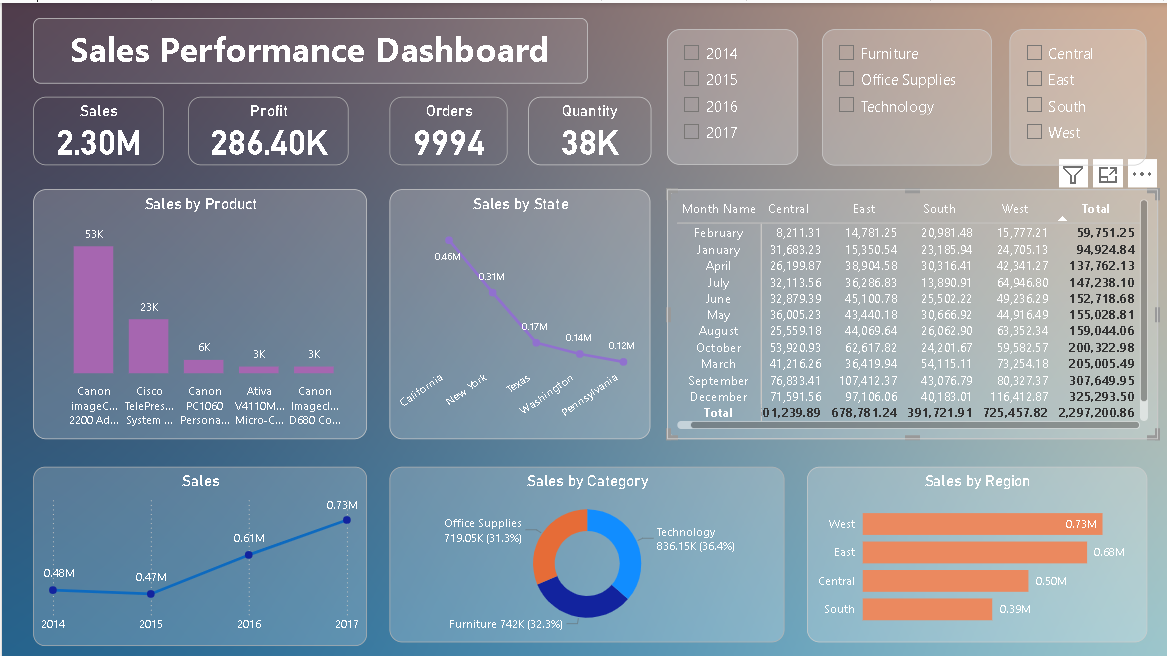

The dashboard page shown, as its layout file describes it:
{"tool":"powerbi","page":{"name":"Page 1","canvas":[1280,720],"ordinal":0},"visuals":[{"type":"lineChart","title":"Sales","fields":{"Category":["Superstore.Order Date.Variation.Date Hierarchy.Year","Superstore.Order Date.Variation.Date Hierarchy.Quarter","Superstore.Order Date.Variation.Date Hierarchy.Month","Superstore.Order Date.Variation.Date Hierarchy.Day"],"Y":["Sum(Superstore.Sales)"]},"box":[34,509.6,366.7,196.8],"z":0},{"type":"columnChart","title":"Sales by Product","fields":{"Category":["Superstore.Product Name"],"Y":["Sum(Superstore.Sales)"]},"box":[34,203.8,366.7,274.8],"z":1000},{"type":"barChart","title":"Sales by Region","fields":{"Category":["Superstore.Region"],"Y":["Sum(Superstore.Sales)"]},"box":[883.3,509.6,373.7,192.8],"z":2000},{"type":"donutChart","title":"Sales by Category","fields":{"Category":["Superstore.Category"],"Y":["Sum(Superstore.Sales)"]},"box":[425.7,509.6,433.7,192.8],"z":3000},{"type":"card","title":"Sales","fields":{"Values":["Sum(Superstore.Sales)"]},"box":[34,102.9,142.9,74.9],"z":4000},{"type":"card","title":"Profit","fields":{"Values":["Sum(Superstore.Profit)"]},"box":[204.8,102.9,175.9,74.9],"z":5000},{"type":"card","title":"Orders","fields":{"Values":["CountNonNull(Superstore.Order ID)"]},"box":[425.7,102.9,129.9,74.9],"z":6000},{"type":"pivotTable","fields":{"Columns":["Superstore.Region"],"Values":["Sum(Superstore.Sales)"],"Rows":["Superstore.Month Name"]},"box":[729.4,203.8,527.6,274.8],"z":7000},{"type":"lineChart","title":"Sales by State","fields":{"Category":["Superstore.State"],"Y":["Sum(Superstore.Sales)"]},"box":[425.7,203.8,286.8,274.8],"z":8000},{"type":"slicer","fields":{"Values":["Superstore.Region"]},"box":[1105.9,29.2,150.8,149.8],"z":9000},{"type":"slicer","fields":{"Values":["Superstore.Category"]},"box":[899.7,29.2,186.7,149.8],"z":10000},{"type":"slicer","fields":{"Values":["Superstore.Order_Year"]},"box":[729.5,29.2,144,148.8],"z":11000},{"type":"card","title":"Quantity","fields":{"Values":["Sum(Superstore.Quantity)"]},"box":[577.5,102.9,134.9,74.9],"z":12000},{"type":"textbox","box":[34,16,608.5,71.9],"z":13000}]}

Visuals, with their boxes in screenshot pixels (x1, y1, x2, y2), scaled from the page's 1280x720 canvas onto the 1167x656 screenshot:
"Sales" lineChart: (left=31, top=464, right=365, bottom=644)
"Sales by Product" columnChart: (left=31, top=186, right=365, bottom=436)
"Sales by Region" barChart: (left=805, top=464, right=1146, bottom=640)
"Sales by Category" donutChart: (left=388, top=464, right=784, bottom=640)
"Sales" card: (left=31, top=94, right=161, bottom=162)
"Profit" card: (left=187, top=94, right=347, bottom=162)
"Orders" card: (left=388, top=94, right=507, bottom=162)
pivotTable - Superstore.Region x Sum(Superstore.Sales): (left=665, top=186, right=1146, bottom=436)
"Sales by State" lineChart: (left=388, top=186, right=650, bottom=436)
slicer - Superstore.Region: (left=1008, top=27, right=1146, bottom=163)
slicer - Superstore.Category: (left=820, top=27, right=990, bottom=163)
slicer - Superstore.Order_Year: (left=665, top=27, right=796, bottom=162)
"Quantity" card: (left=527, top=94, right=650, bottom=162)
textbox: (left=31, top=15, right=586, bottom=80)
